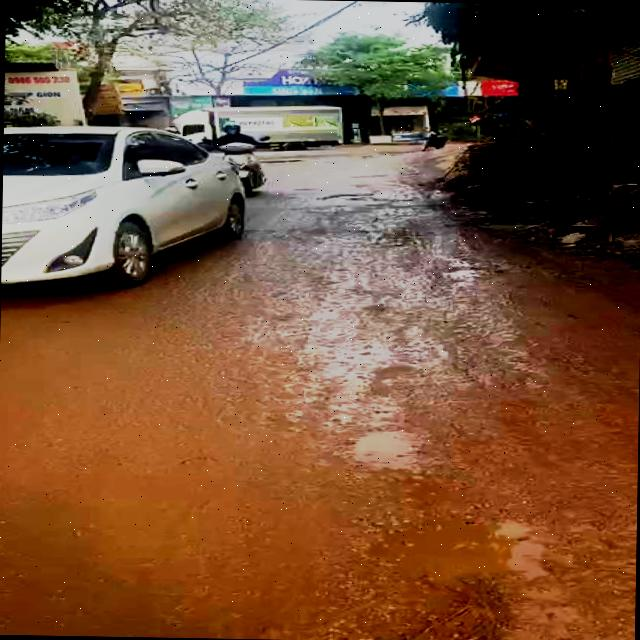pothole: (323, 410, 570, 640)
